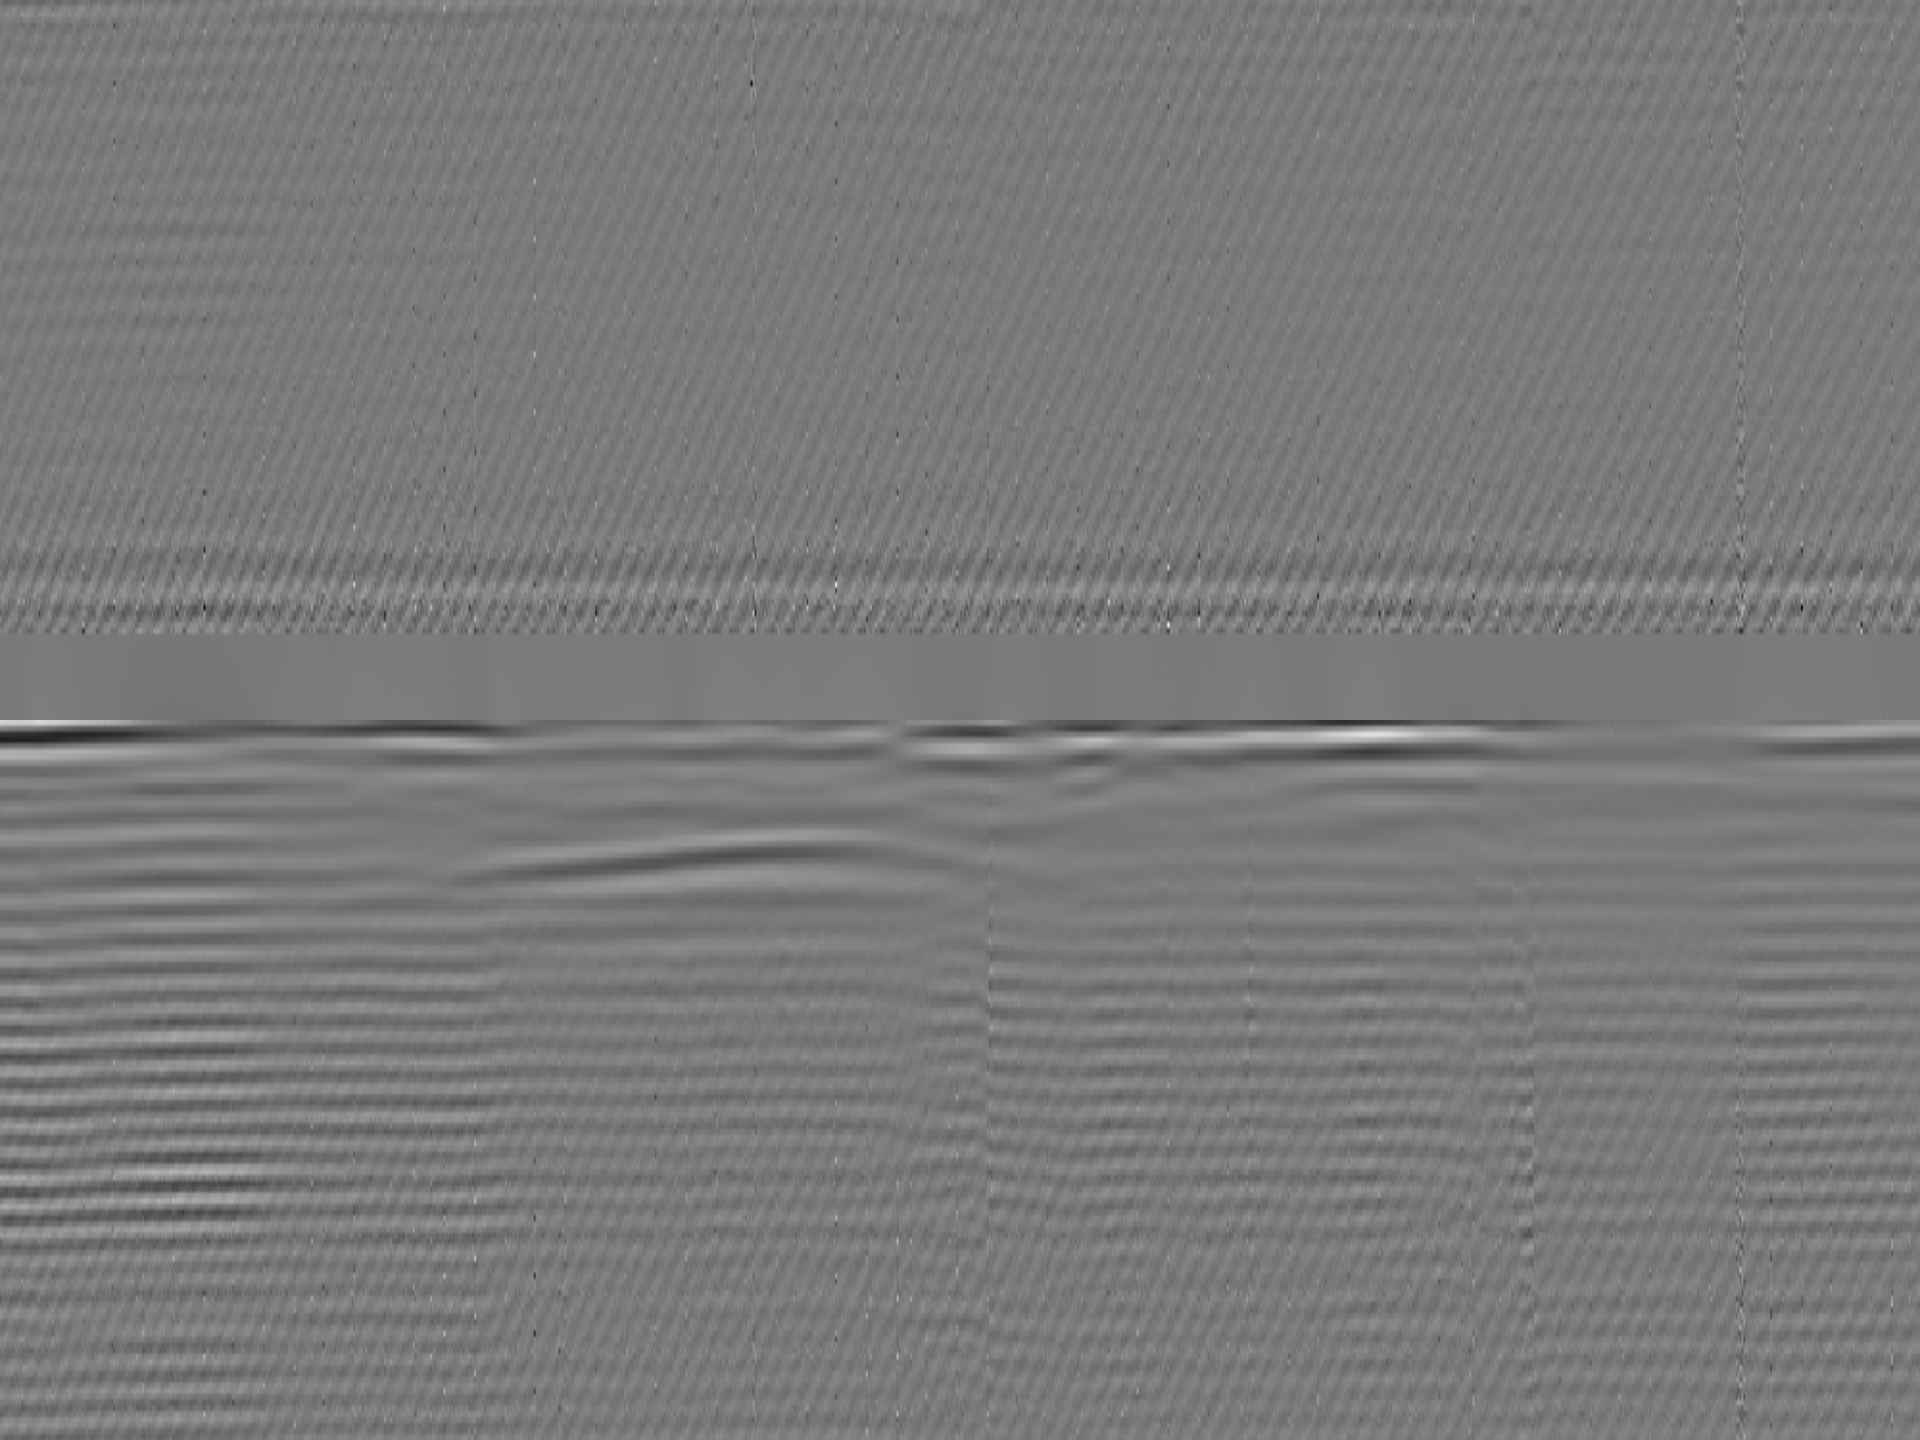Tunnel: (441, 821, 1040, 908)
